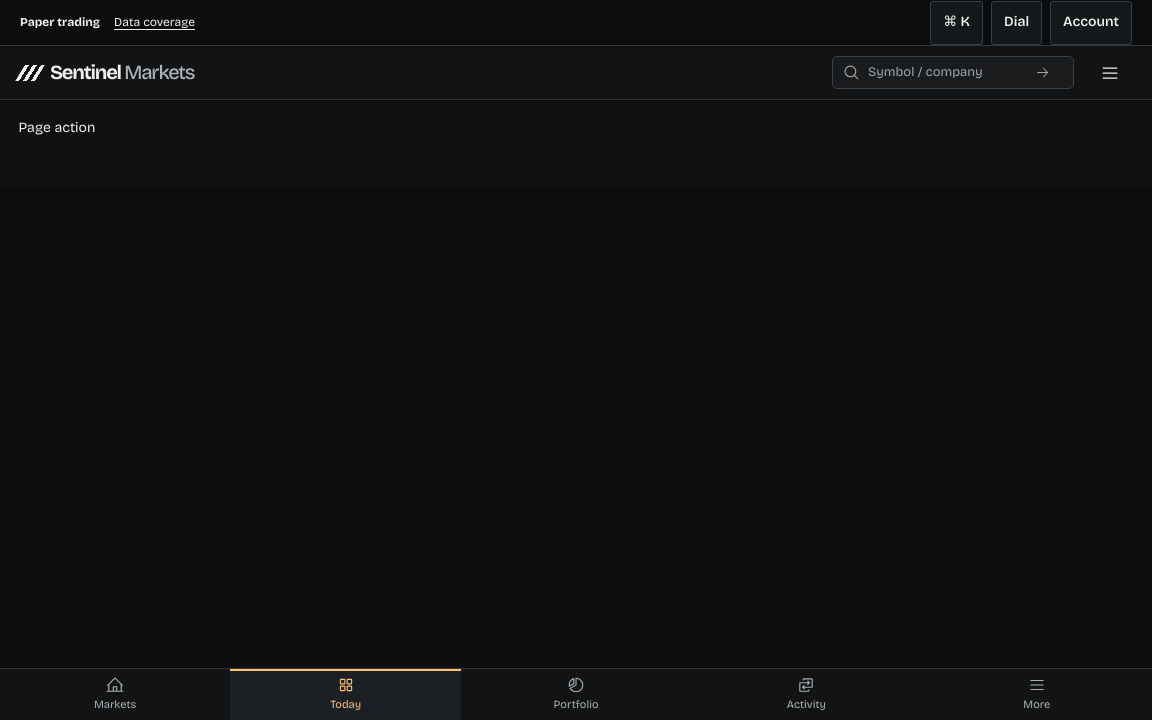
Test: mobile shell › closes after navigation and cleans up the scroll lock on unmount
The image size is (1152, 720).
Later steps or results of the test are not shown.
Click the button named "Open navigation" at (1110, 72), box [1088,50,1132,94]
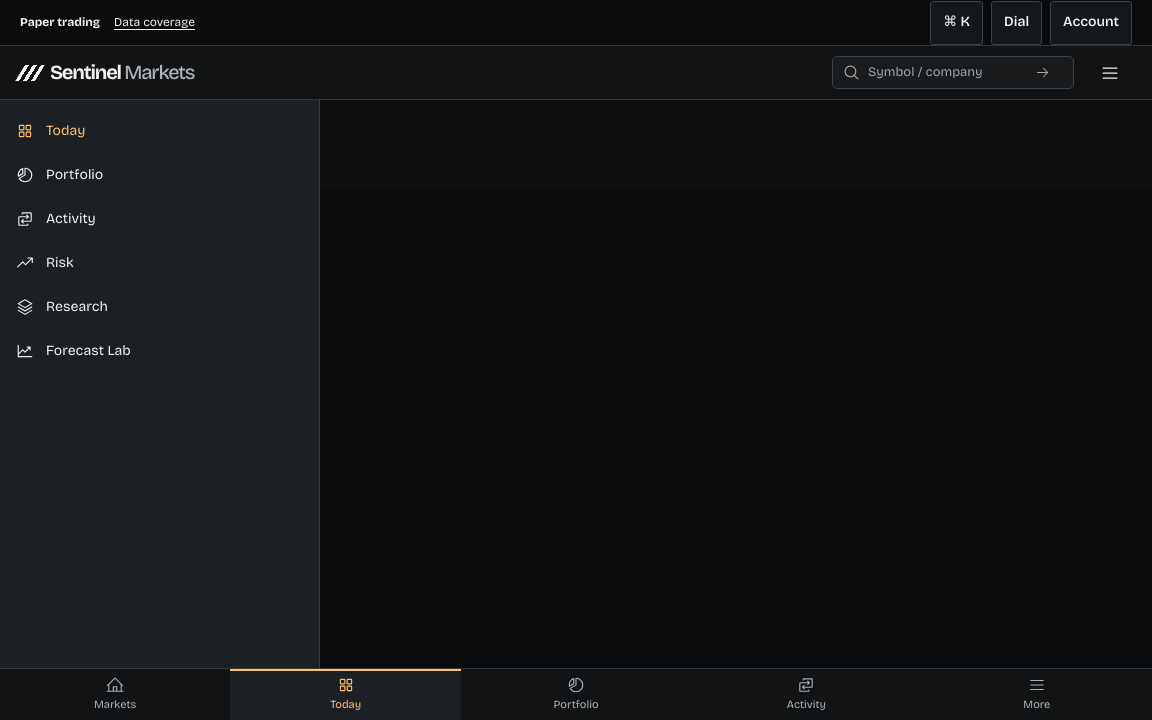
Click the 1st link "Portfolio" at (60, 175), box [16,166,103,184]
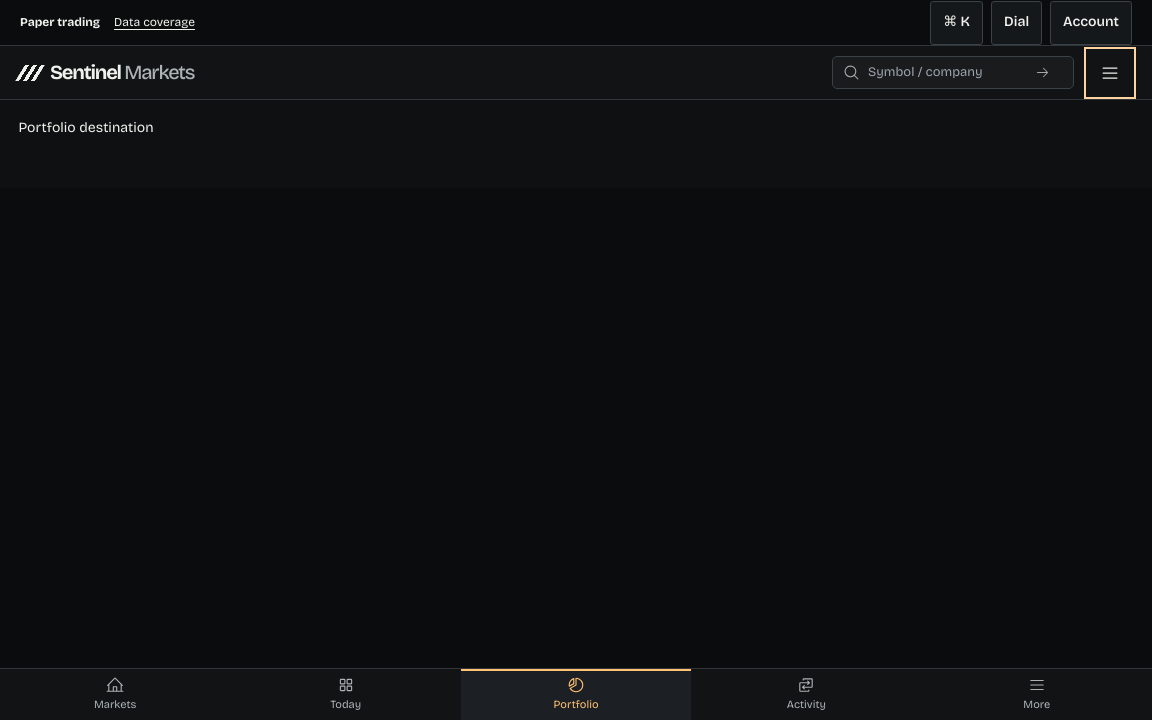
Check: the heading "Portfolio destination" is shown, box [18,119,154,136]
Check: the dialog is gone
